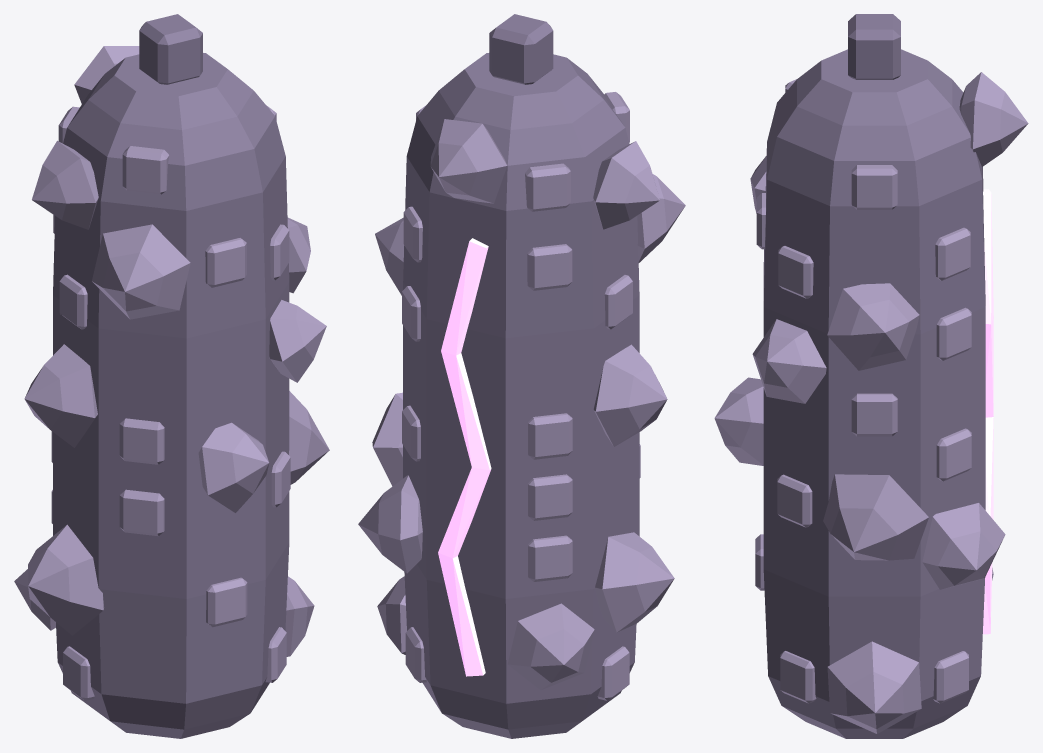
File: NarmekMeteorCucumber.fbx
3 renders of one model, left to right at view 1: azimuth 30°, elevation 25°; view 2: azimuth 150°, elevation 25°; view 3: azimuth 270°, elevation 25°, orthographic.
Visible parts, largest first — view 1: NarmekMeteorCucumber.Body, NarmekMeteorCucumber.Shards, NarmekMeteorCucumber.Studs; view 2: NarmekMeteorCucumber.Body, NarmekMeteorCucumber.Shards, NarmekMeteorCucumber.Studs, NarmekMeteorCucumber.Crack; view 3: NarmekMeteorCucumber.Body, NarmekMeteorCucumber.Shards, NarmekMeteorCucumber.Studs, NarmekMeteorCucumber.Crack.
Part boxes in pixels (x1,y1,x2,y2): NarmekMeteorCucumber.Body: (53,14,289,738); NarmekMeteorCucumber.Shards: (14,46,329,656); NarmekMeteorCucumber.Studs: (51,105,290,700); NarmekMeteorCucumber.Body: (403,14,639,738); NarmekMeteorCucumber.Shards: (358,119,685,689); NarmekMeteorCucumber.Studs: (402,92,640,700); NarmekMeteorCucumber.Crack: (438,238,491,676); NarmekMeteorCucumber.Body: (763,14,985,738); NarmekMeteorCucumber.Shards: (714,72,1028,733); NarmekMeteorCucumber.Studs: (755,79,971,703); NarmekMeteorCucumber.Crack: (983,189,993,634).
Size of the model in its own units: 1.95 by 4.3 by 1.78.
